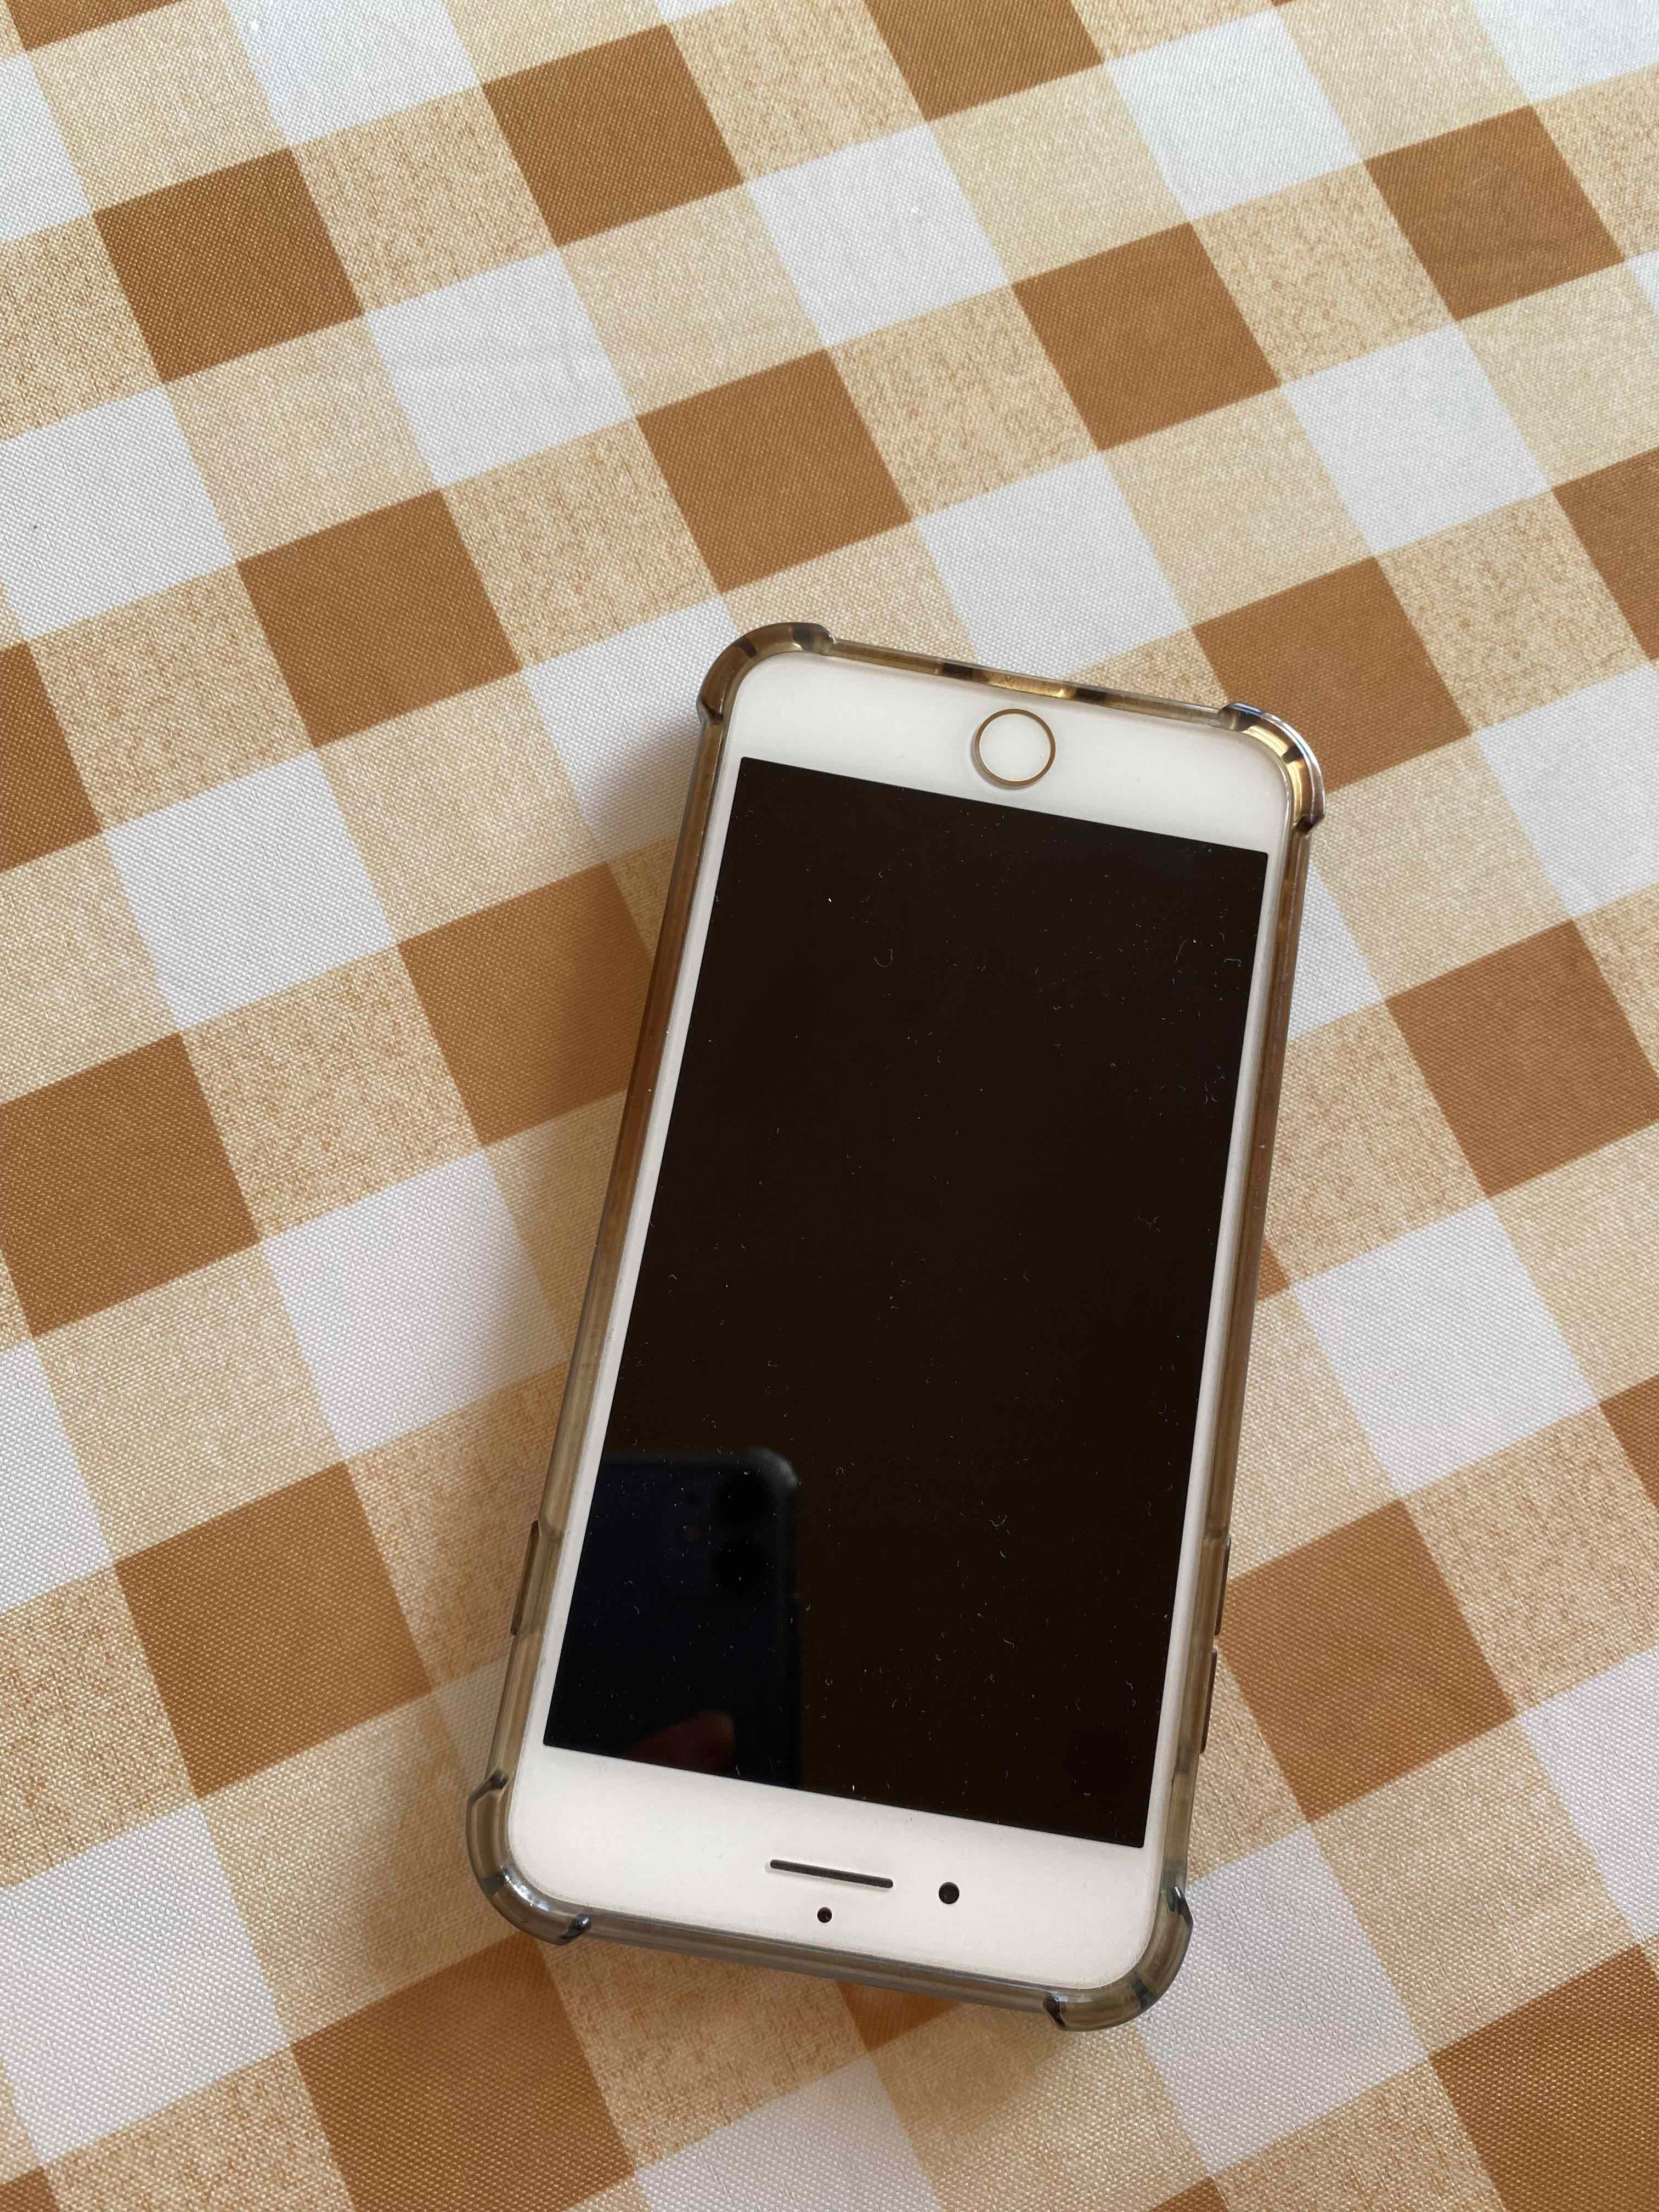Cell Phone: (474, 618, 1314, 2008)
